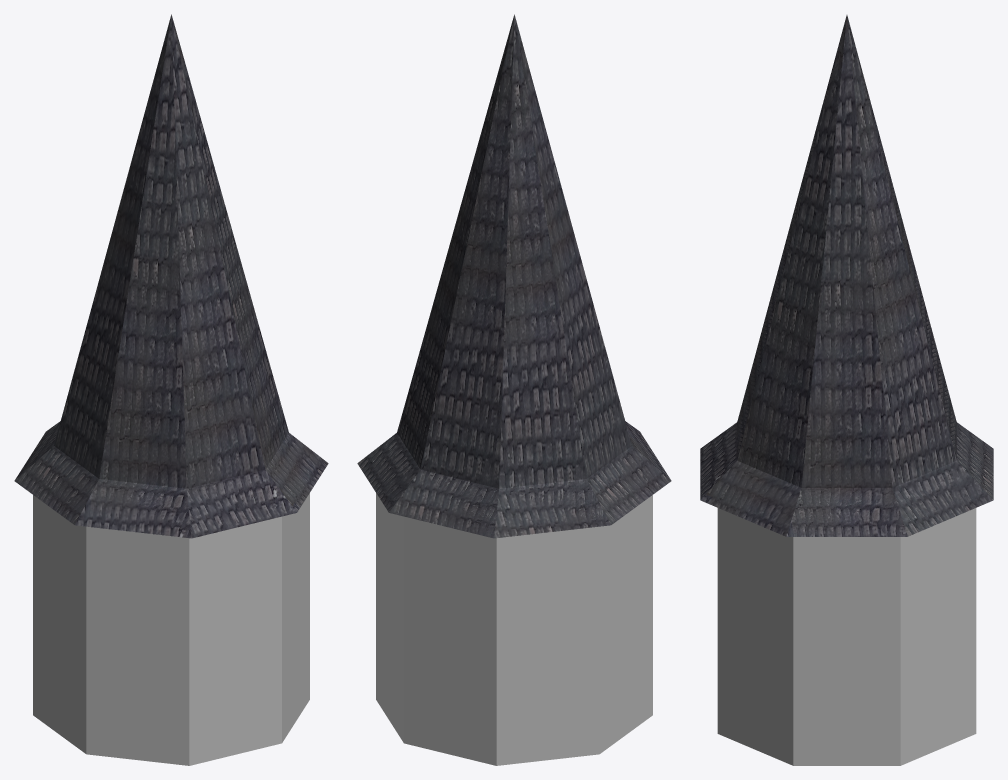
File: Tower.fbx
The picture shows the model from 3 angles, left to right: view 1: azimuth 30°, elevation 25°; view 2: azimuth 150°, elevation 25°; view 3: azimuth 270°, elevation 25°; orthographic projection.
Visible parts, largest first — view 1: Tower; view 2: Tower; view 3: Tower.
Part boxes in pixels (x1,y1,x2,y2): Tower: [14, 14, 328, 765]; Tower: [357, 14, 671, 765]; Tower: [700, 15, 993, 765].
Bounding box in the file's own units: 315 × 824 × 314.
